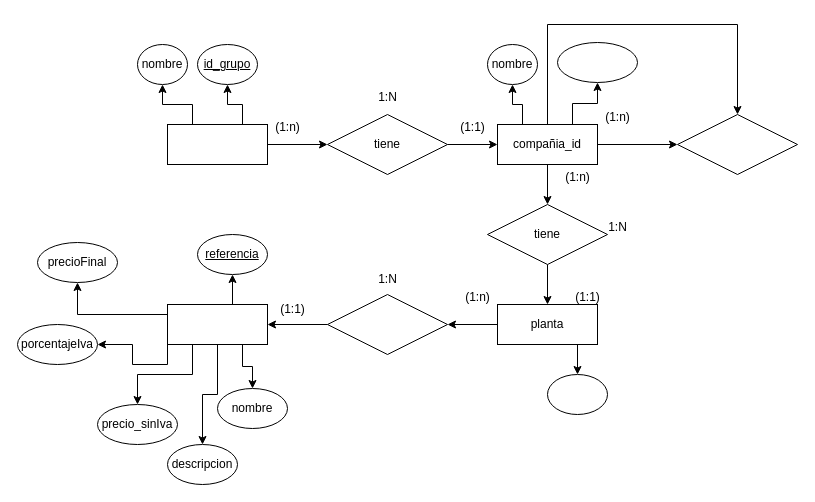
Image size: 815x502. Some labels were removed from this diagram. The shapes that lost their labels are listed below. From the top down, each one's centre as x and y in pixels, then its label:
At point (597, 62): "id_compañia".
At point (217, 144): "grupo_id".
At point (737, 144): "esMatrizDe".
At point (217, 324): "articulo".
At point (387, 324): "produce".
At point (577, 394): "id_planta".
